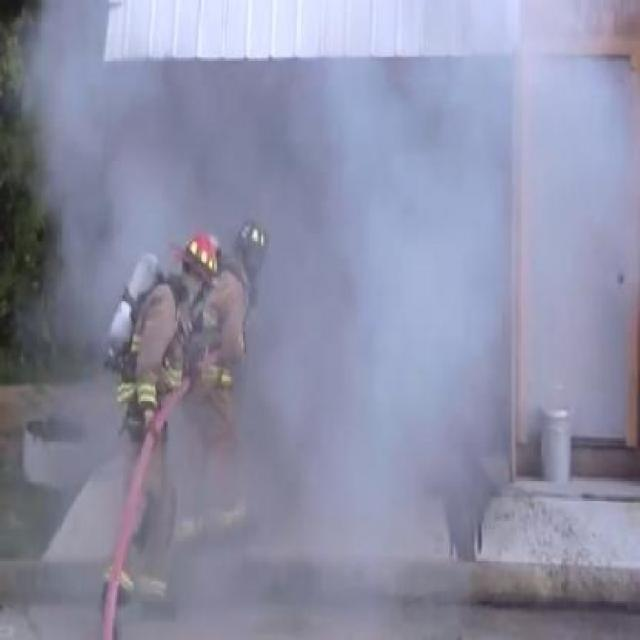smoke: (341, 64, 508, 556), (13, 36, 332, 210), (256, 274, 336, 580)
